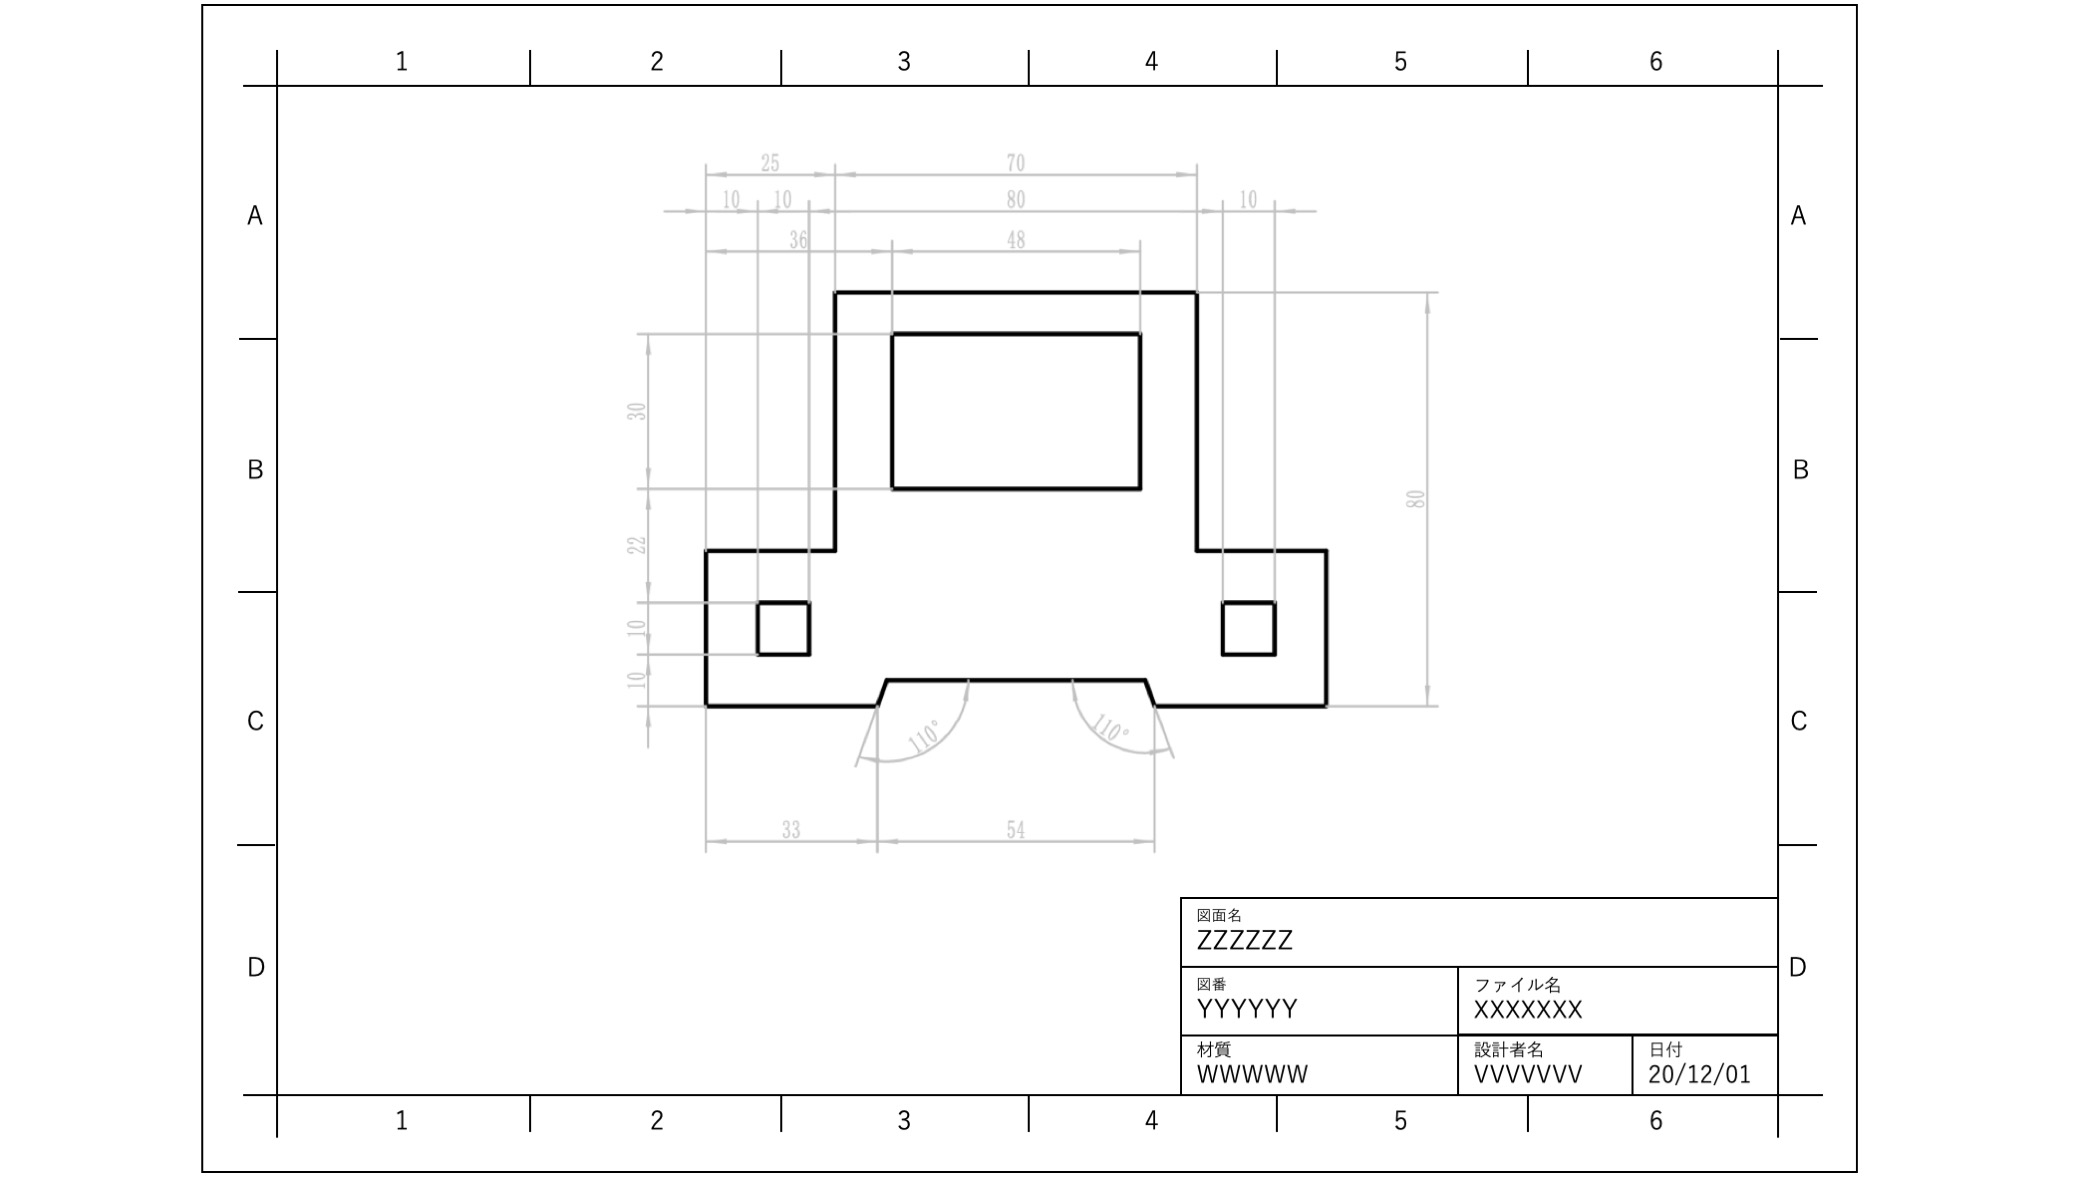rectangle: (865, 314, 1155, 500), (1194, 580, 1285, 671), (751, 590, 828, 684)
